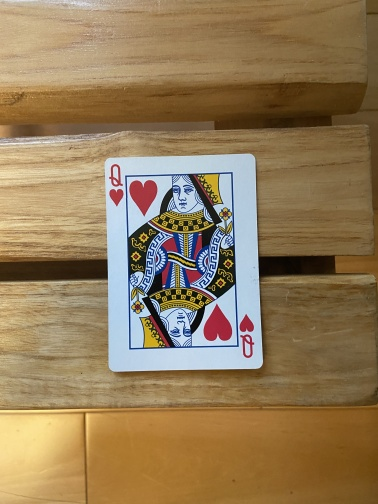queen: (104, 153, 264, 373)
